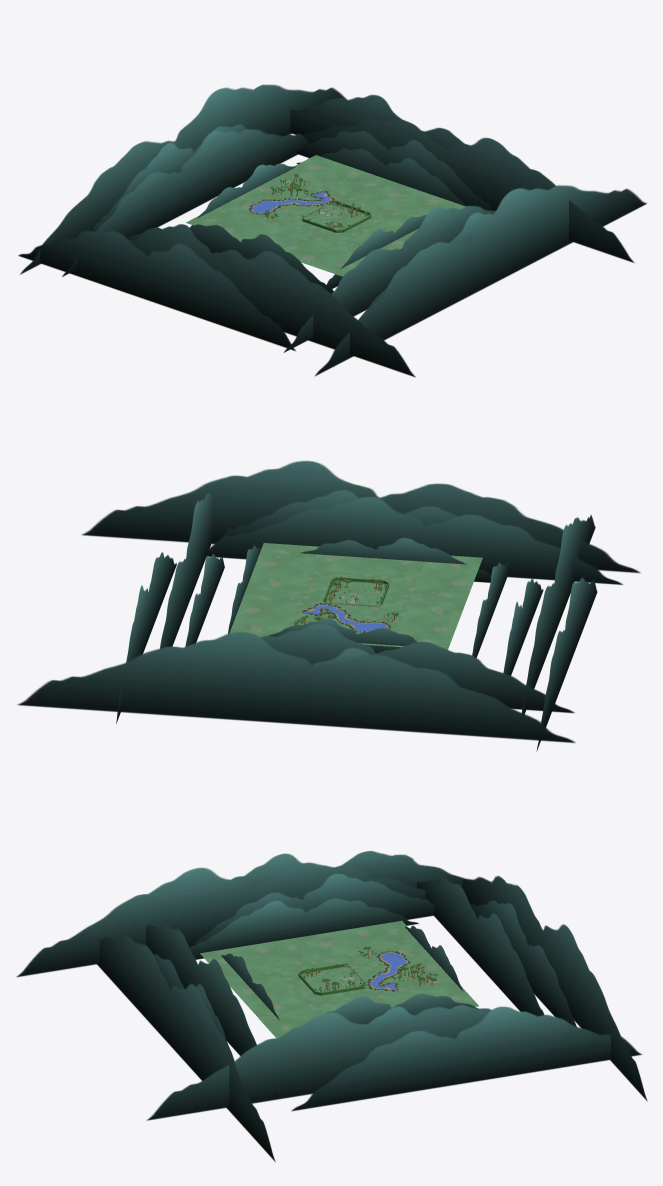
File: cenario.glb
The picture shows the model from 3 angles, top to bottom: view 1: azimuth 30°, elevation 25°; view 2: azimuth 150°, elevation 25°; view 3: azimuth 270°, elevation 25°; orthographic projection. The views are drawn at different scales.
Visible parts, largest first — view 1: montanha, chao_expandido (1), chao_expandido, chao, pPlane3; view 2: montanha, chao_expandido (1), chao_expandido, chao, pPlane3; view 3: montanha, chao_expandido (1), chao_expandido, chao, pPlane3.
Part boxes in pixels (x1,y1,x2,y2): montanha: [18, 84, 646, 377]; chao_expandido (1): [186, 155, 465, 276]; chao_expandido: [258, 185, 402, 246]; chao: [292, 202, 366, 232]; pPlane3: [248, 190, 334, 214]; montanha: [17, 460, 640, 751]; chao_expandido (1): [229, 543, 482, 649]; chao_expandido: [292, 570, 418, 623]; chao: [322, 583, 389, 611]; pPlane3: [302, 602, 390, 632]; montanha: [16, 851, 647, 1161]; chao_expandido (1): [200, 920, 478, 1038]; chao_expandido: [270, 950, 409, 1009]; chao: [303, 964, 371, 995]; pPlane3: [367, 951, 410, 991].
Bounding box in the file's own units: 623 × 102 × 591.
Materials: 23 (22 with a texture image).
